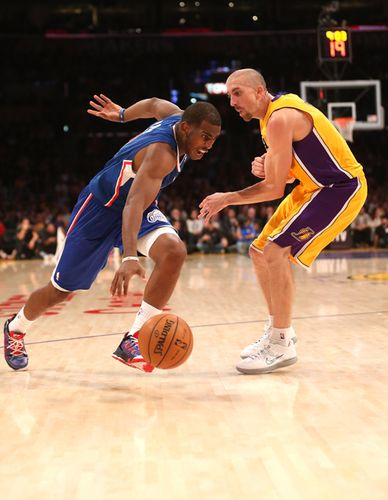ball: (137, 313, 194, 371)
